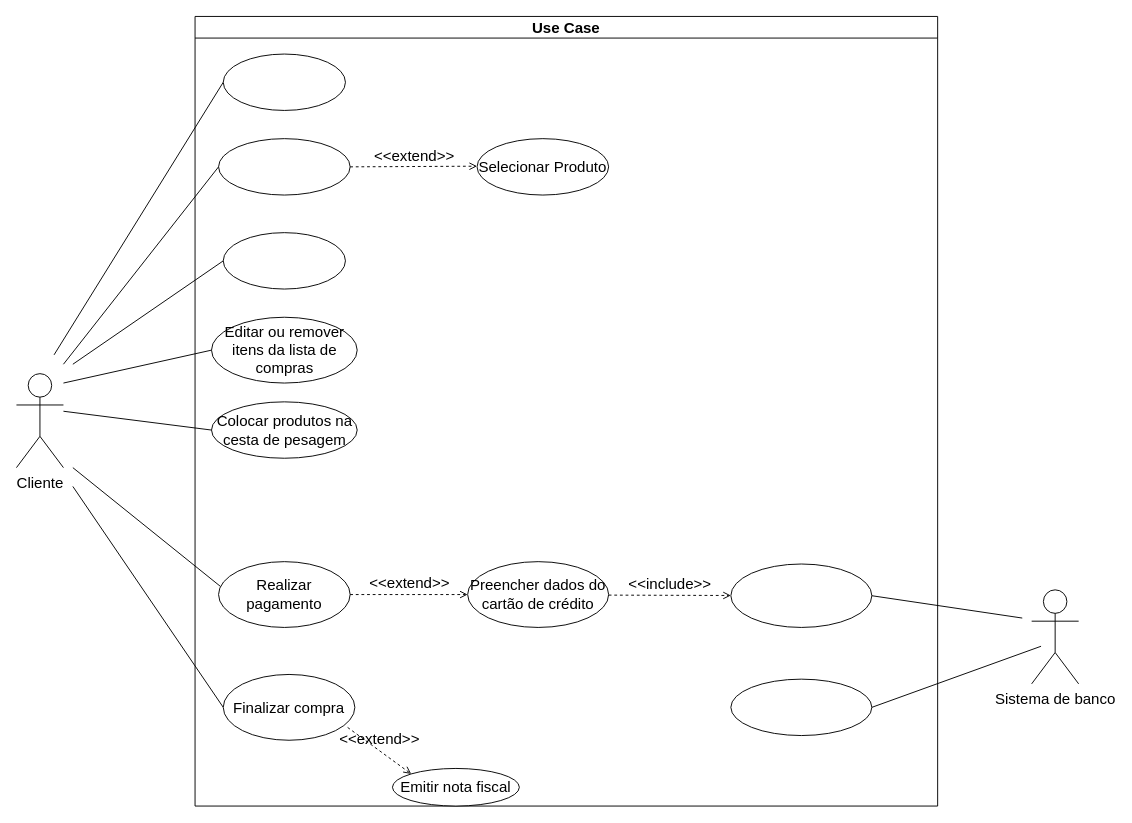
The diagram is 1132 pixels wide and 823 high, and some of its shapes have lost their labels. Here are the shapes that lost their labels. From the top down, the centre of each, then its label:
At point 283,81: "Iniciar Compra".
At point 284,166: "Ler código de barras".
At point 283,260: "Exibir lista de compras".
At point 801,595: "Verificar dados do cartão de crédito".
At point 801,707: "Faturar compra".
